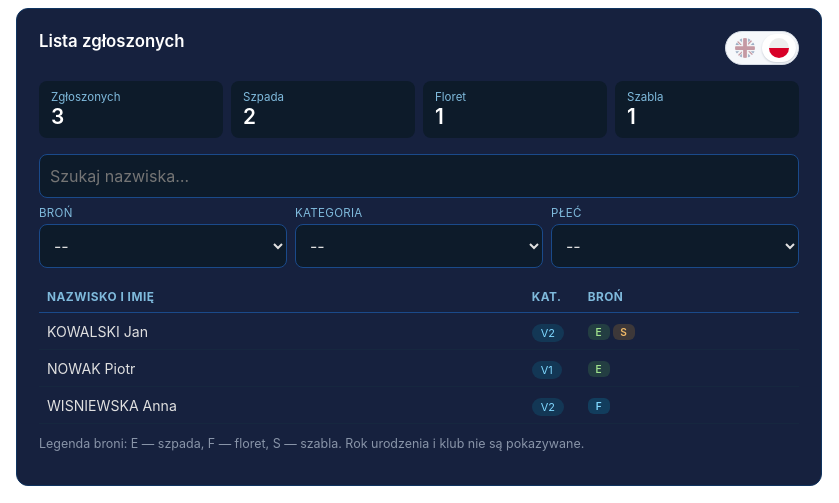
Test: EntryList › filters by gender
Expected: the text "KOWALSKI Jan" is shown, [39,312,524,350]
Select "Kobiety" in the dropdown named "genderFilter" at (675, 246), box [551,224,799,268]
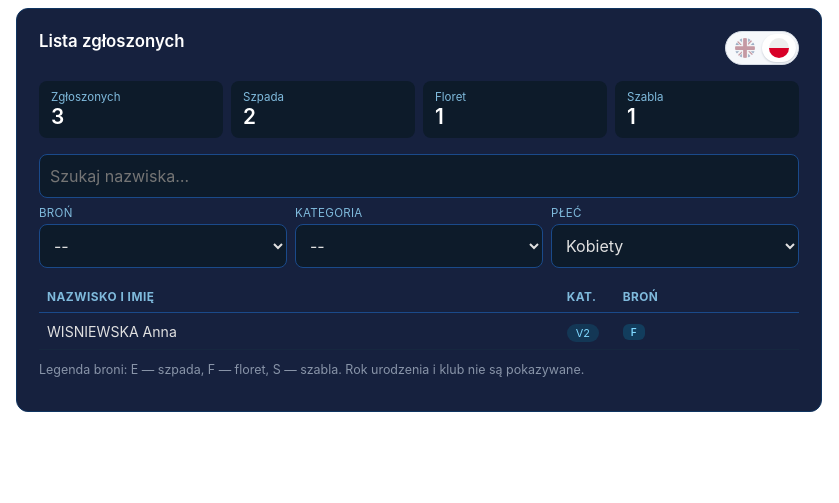
Expected: the text "WISNIEWSKA Anna" is shown, [39,312,559,350]
Expected: the text "KOWALSKI Jan" is gone
